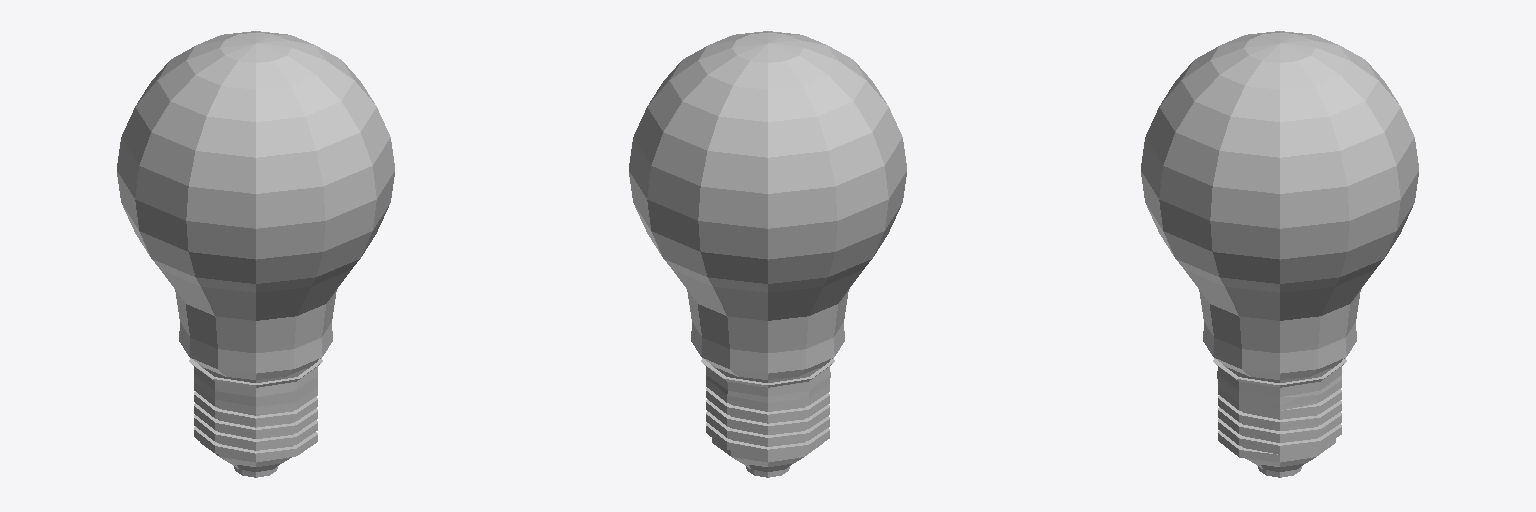
The model's file is lightbulb.obj.
3 renders of one model, left to right at view 1: azimuth 30°, elevation 25°; view 2: azimuth 150°, elevation 25°; view 3: azimuth 270°, elevation 25°, orthographic.
Parts seen in each view (by area): view 1: lightbulb; view 2: lightbulb; view 3: lightbulb.
Boxes of the visible parts, <box> form: lightbulb: <box>117,31,394,477</box>; lightbulb: <box>629,31,906,477</box>; lightbulb: <box>1141,31,1418,477</box>.
Bounding box in the file's own units: 0.0964 × 0.162 × 0.0964.